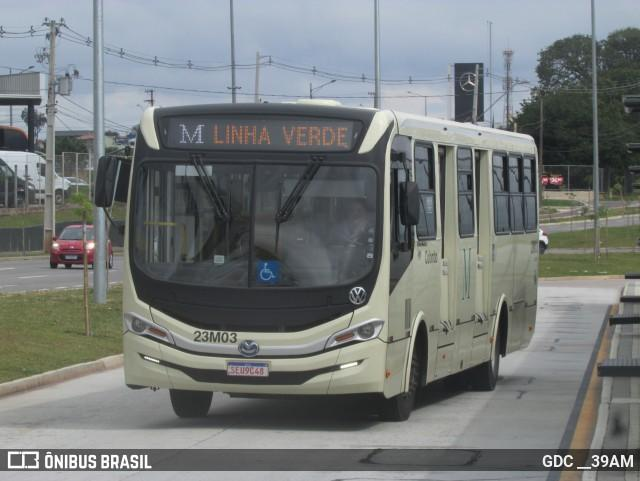LINHA VERDE: (208, 120, 352, 153)
